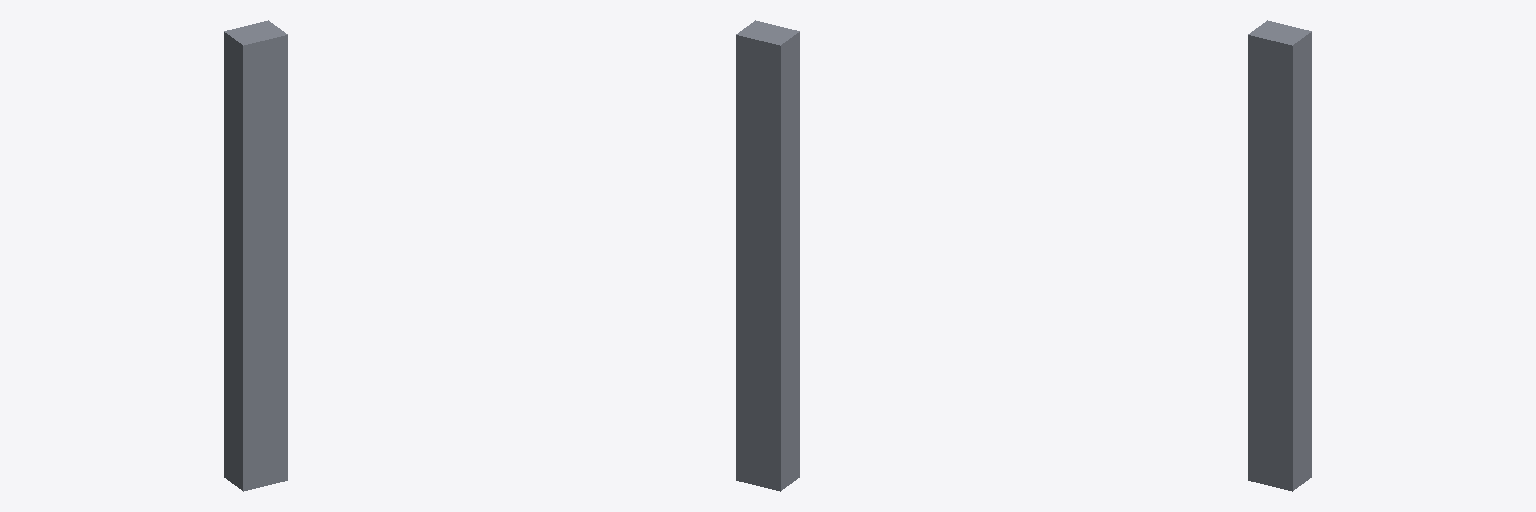
URDF robot description (artmanip_knife_000):
<?xml version='1.0' encoding='utf-8'?>
<robot name="artmanip_knife_000"><link name="link_0"><inertial><mass value="0.024324924804618526" /><inertia ixx="3.8735695148425525e-05" iyy="3.891534632566259e-05" izz="6.643835300419464e-07" ixy="0" ixz="0" iyz="0" /></inertial><visual><geometry><box size="0.014428793723980392 0.010934549011127781 0.1378026614707698" /></geometry><material name="link_0_color"><color rgba=".58 .60 .64 1" /></material></visual><collision><geometry><box size="0.014428793723980392 0.010934549011127781 0.1378026614707698" /></geometry></collision></link><link name="link_1"><inertial><mass value="0.006" /><inertia ixx="4.545e-07" iyy="5e-07" izz="5.45e-08" ixy="0" ixz="0" iyz="0" /></inertial><visual><geometry><mesh filename="slider-shoulder.obj" /></geometry><material name="link_1_color"><color rgba=".12 .13 .15 1" /></material></visual><collision><geometry><mesh filename="slider-shoulder.obj" /></geometry></collision></link><joint name="slider" type="prismatic"><parent link="link_0" /><child link="link_1" /><origin xyz="0.0008888780268155754 0.007231806133819685 0.013133456065539227" /><axis xyz="0 0 1" /><limit lower="-0.03267458688196273" upper="0.017325413118037272" effort="100" velocity="1" /><dynamics damping="1000" friction="0.001" /></joint></robot>

--- Facts derived from the render (not from the file) ---
Views: 3 orthographic renders of the robot side by side, from view 1: azimuth 30°, elevation 25°; view 2: azimuth 150°, elevation 25°; view 3: azimuth 330°, elevation 25°.
Model artmanip_knife_000 with 2 links and 1 joints (1 prismatic), rooted at link_0, posed all joints at 0.
Visible links, largest first — view 1: link_0; view 2: link_0; view 3: link_0.
Link boxes in pixels (<box>): link_0: <box>224,20,287,491</box>; link_0: <box>736,20,799,491</box>; link_0: <box>1248,20,1311,491</box>.
Bounding box of the posed robot: 0.0144 × 0.0109 × 0.1378 m (x, y, z).
Meshes: 1 distinct files referenced, 0 mesh visuals loaded (none loaded); not drawn: 1 (reference not matched to a file when rendering).
